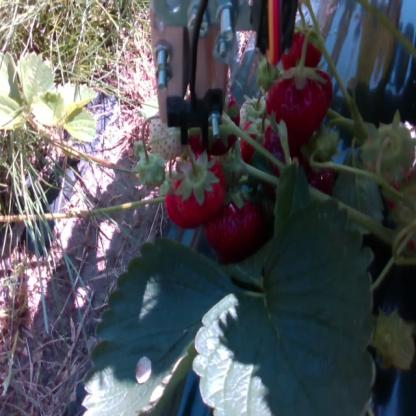ripe: (271, 67, 336, 137), (166, 153, 226, 228), (205, 197, 259, 253), (282, 29, 322, 72), (239, 119, 272, 158)
unripe: (146, 115, 180, 162)
